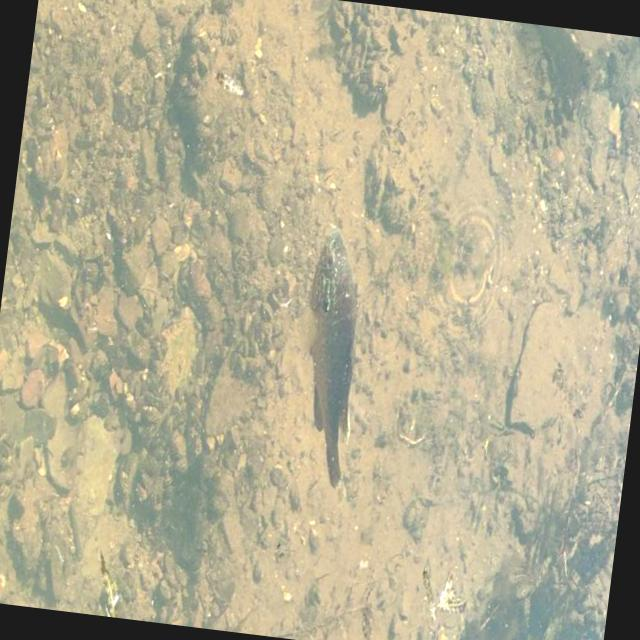Gunes Levregi: (276, 216, 378, 498)
